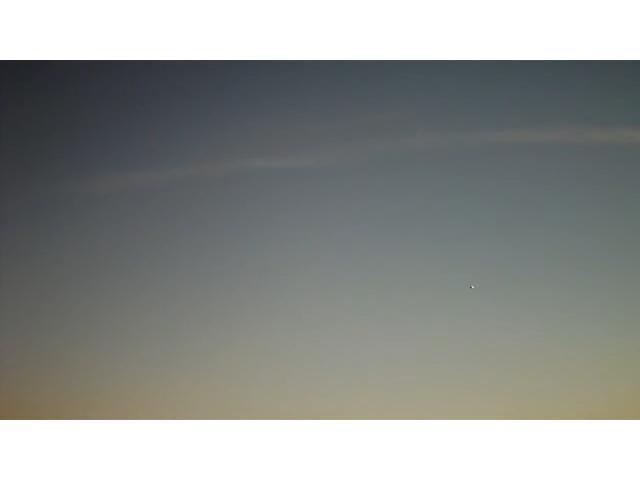Anti-Drone: (464, 280, 478, 293)
